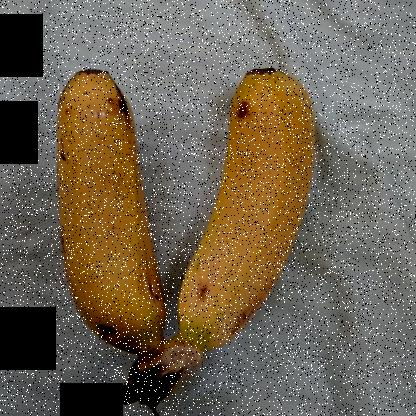ripe: (163, 59, 326, 348), (41, 62, 181, 352)
